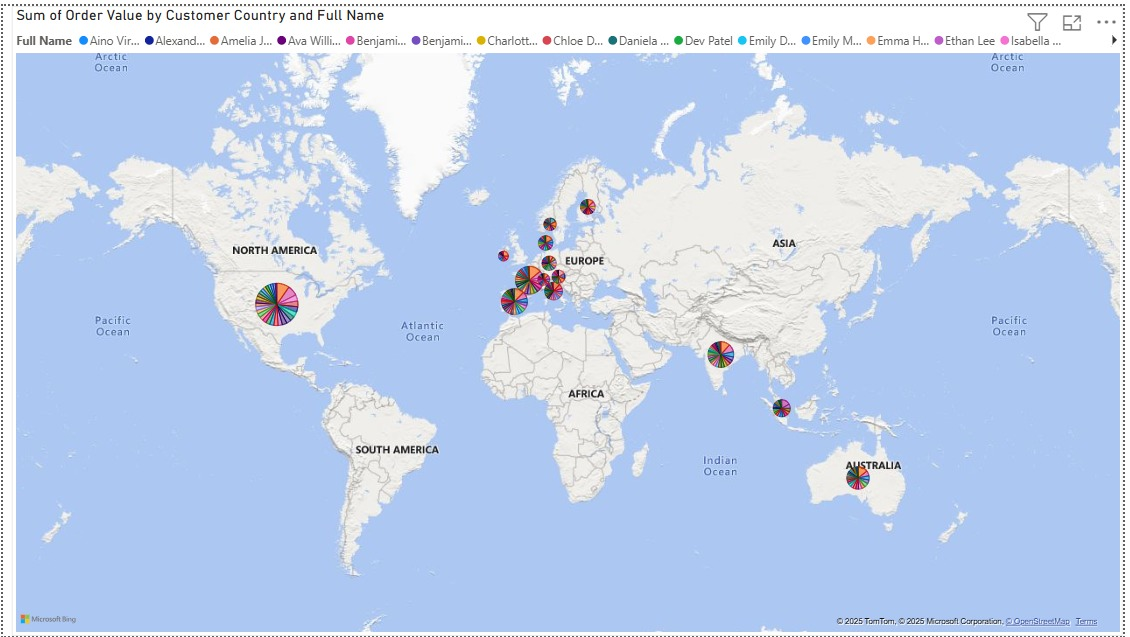

This screenshot's page, from the dashboard's own definition file:
{"tool":"powerbi","page":{"name":"Sales in each country","canvas":[1280,720],"ordinal":3},"visuals":[{"type":"map","fields":{"Category":["Table 1 (Orders).Customer Country"],"Size":["Sum(Table 1 (Orders).Order Value)"],"Series":["Sales Targets.Full Name"]},"box":[9.8,0,1270.5,720.2],"z":0}]}

Visuals, with their boxes on the page's 1280x720 design canvas (x1, y1, x2, y2). These are canvas units, not pixel positions in the 1130x637 screenshot, which may show the page scaled, cropped or inside an application window:
map - Table 1 (Orders).Customer Country x Sum(Table 1 (Orders).Order Value): 10 0 1280 720
